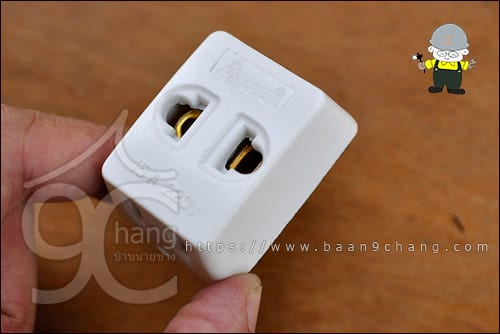Three_eye_plug: (96, 27, 366, 288)
